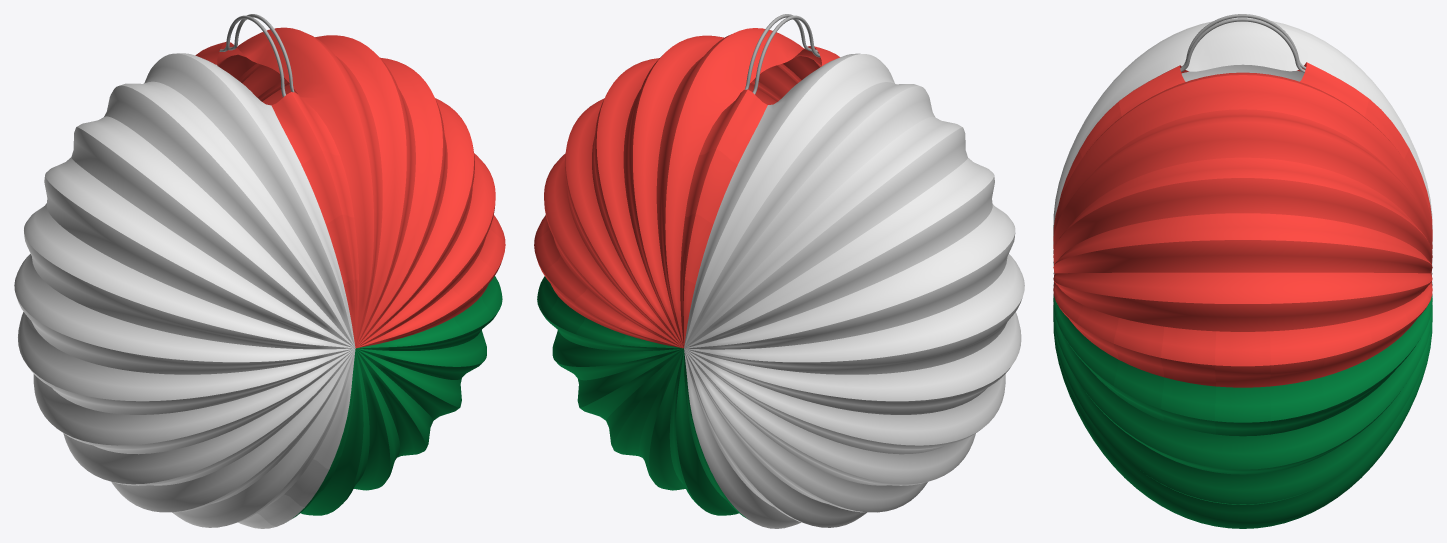
The model's file is arendrinatsymirehatra.glb.
3 renders of one model, left to right at view 1: azimuth 30°, elevation 25°; view 2: azimuth 150°, elevation 25°; view 3: azimuth 270°, elevation 25°, orthographic.
Parts seen in each view (by area): view 1: Sphere, Circle.001; view 2: Sphere, Circle.001; view 3: Sphere, Circle, Circle.001.
Part boxes in pixels (<box>): Sphere: <box>14,27,505,528</box>; Circle.001: <box>219,15,285,97</box>; Sphere: <box>534,28,1024,528</box>; Circle.001: <box>752,15,820,94</box>; Sphere: <box>1053,18,1432,528</box>; Circle: <box>1180,18,1305,72</box>; Circle.001: <box>1180,14,1305,69</box>.
Size of the model in its own units: 1.89 by 1.98 by 1.4.
